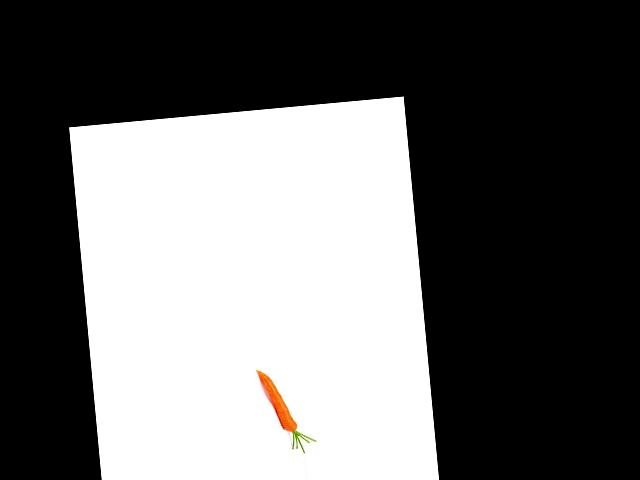carrot: (255, 364, 303, 441)
